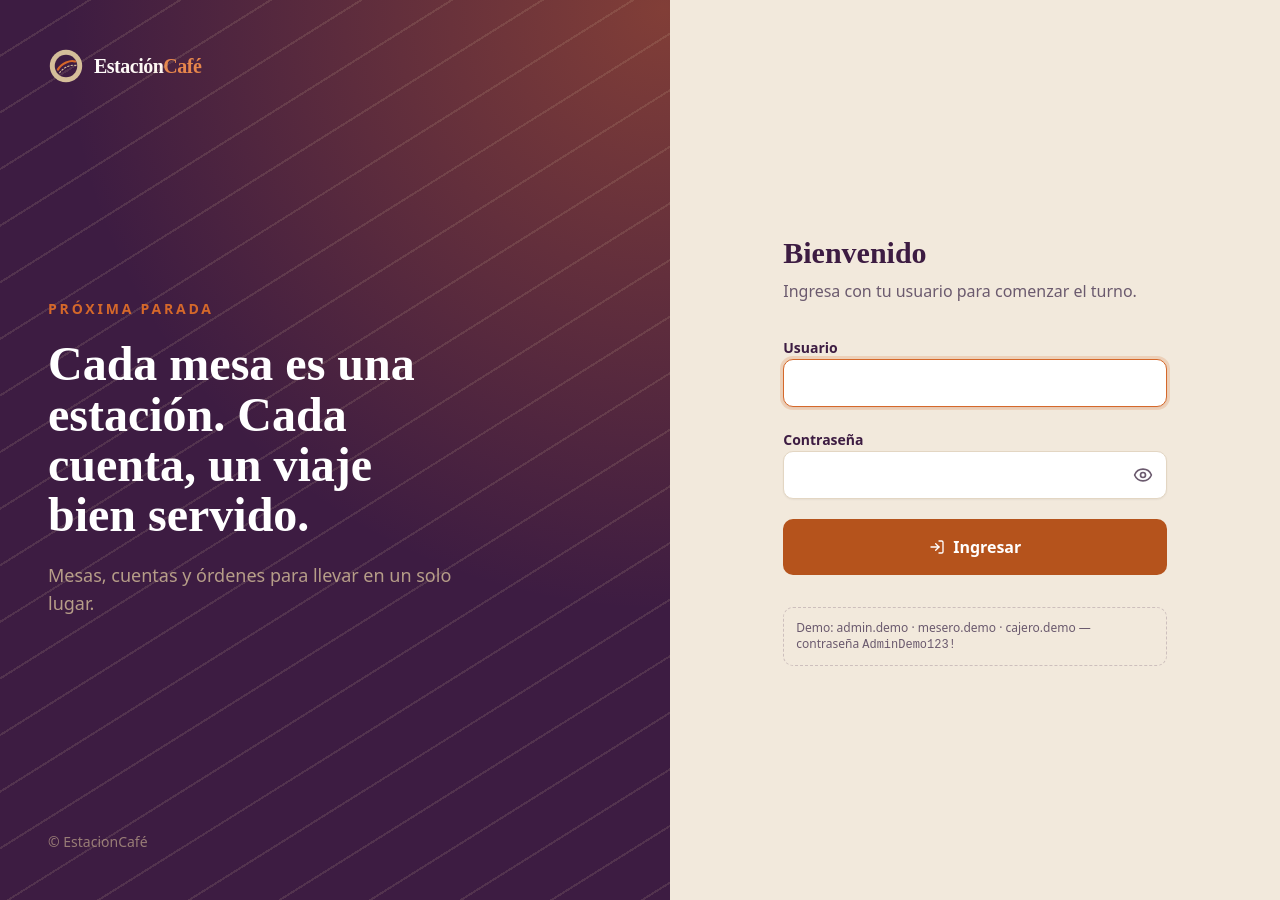
Test: Autenticación y navegación por rol › credenciales inválidas muestran el error de la API
In the field labelled "Usuario": (975, 382) [783,358,1167,406], type "mesero.demo"
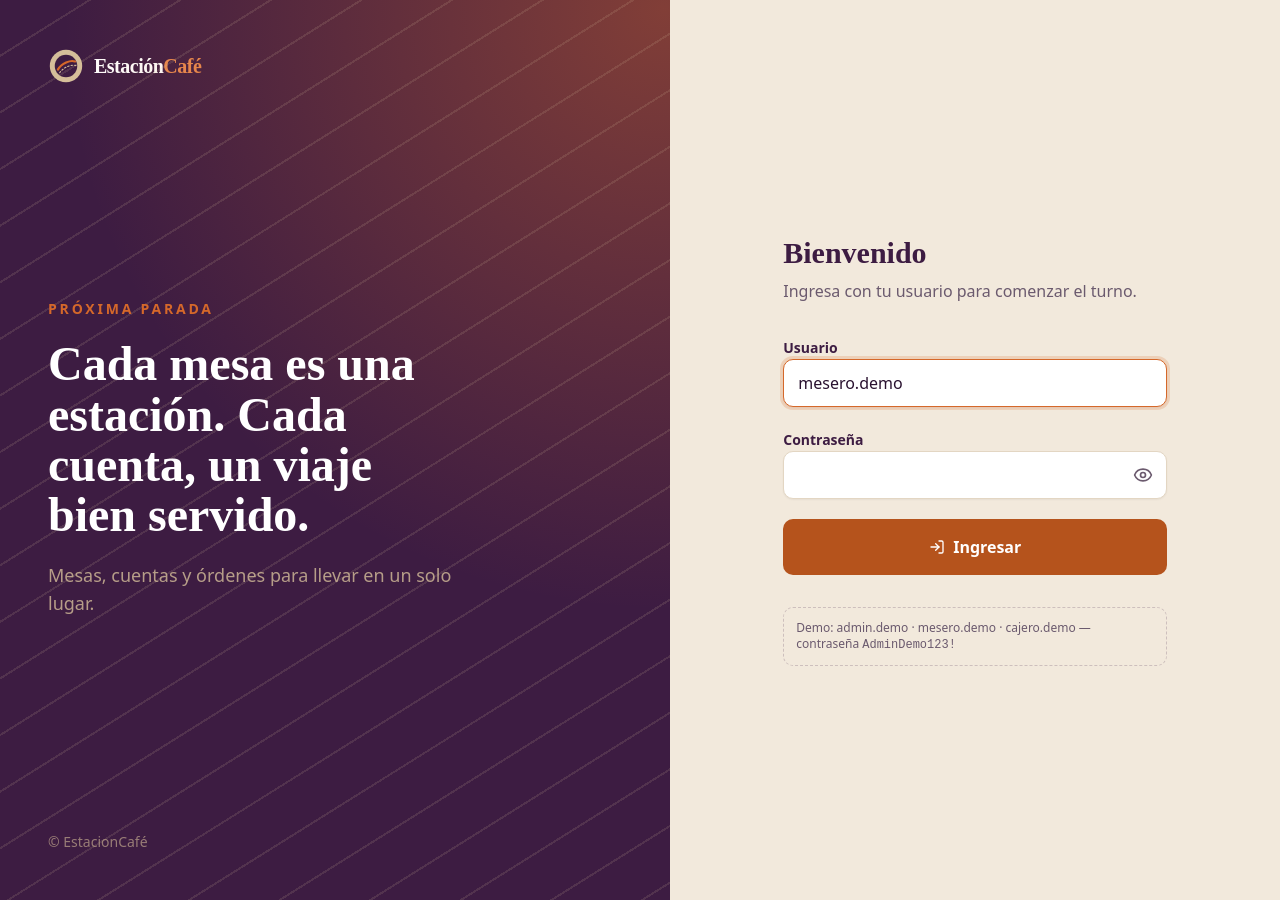
In the password field labelled "Contraseña": (975, 474) [783,450,1167,498], type "incorrecta"
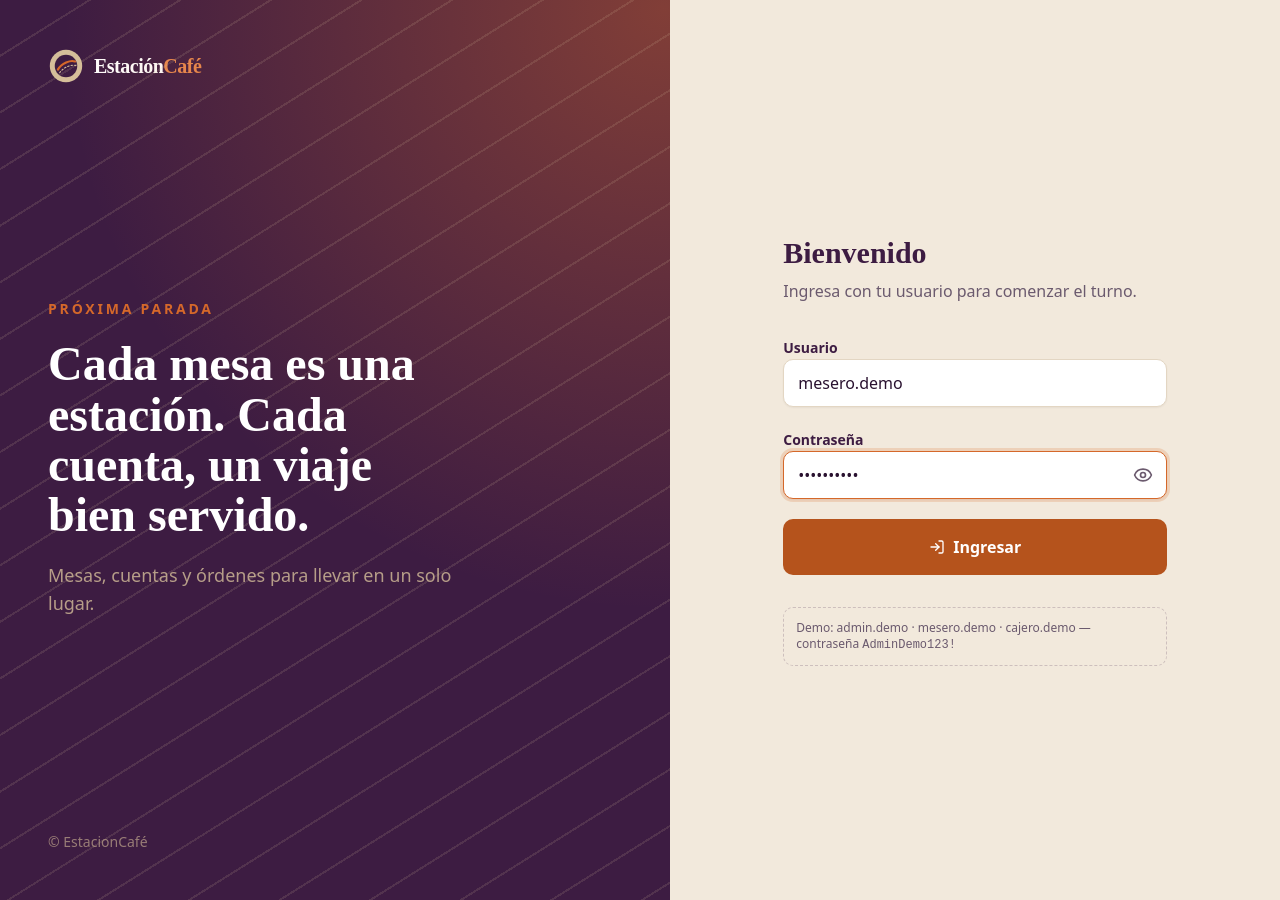
Click the button "Ingresar": (975, 546) [783,518,1167,574]
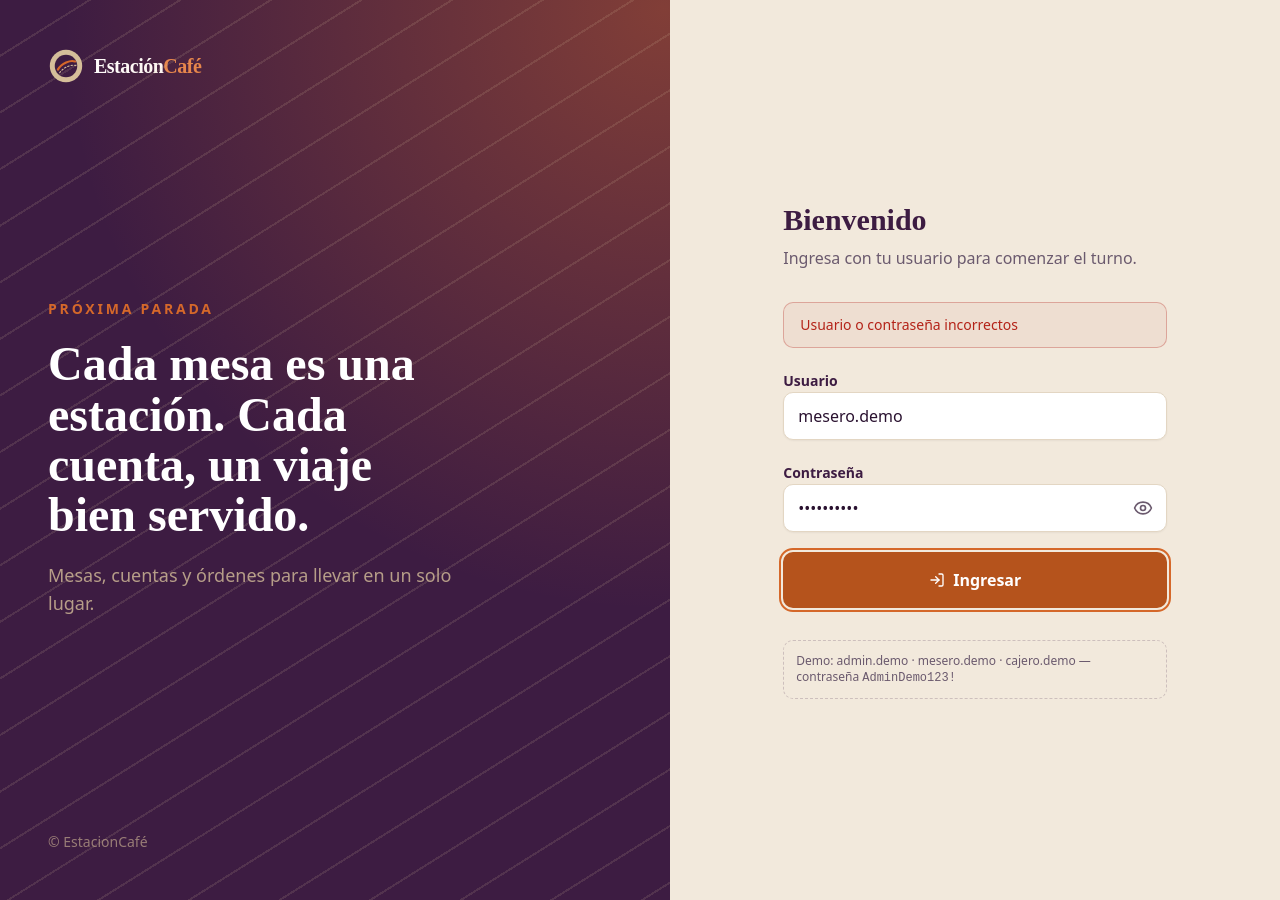
Now the message reads "Usuario o contraseña incorrectos", box [800,314,1018,334]
